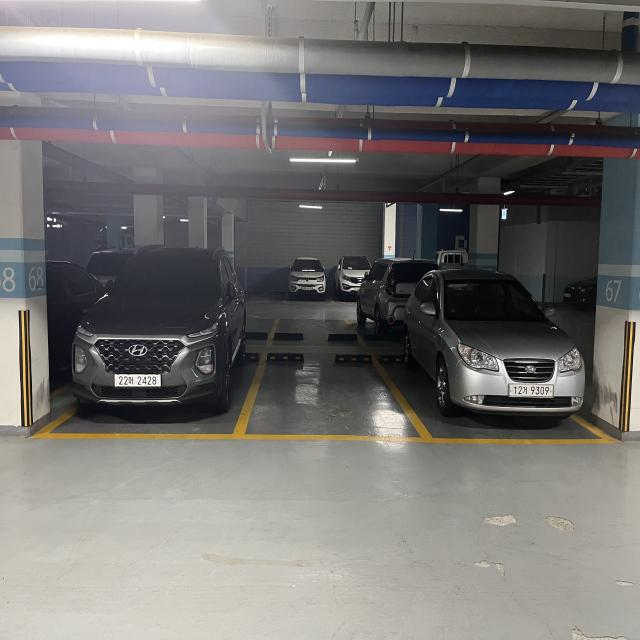empty: (237, 356, 427, 446)
occupied: (64, 204, 234, 439), (400, 270, 580, 442), (622, 11, 640, 66)
